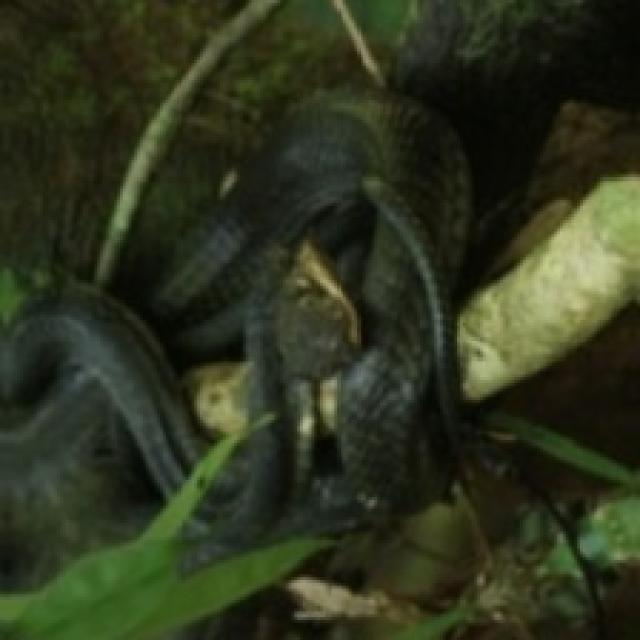king cobra: (0, 0, 637, 637), (466, 237, 560, 371)
